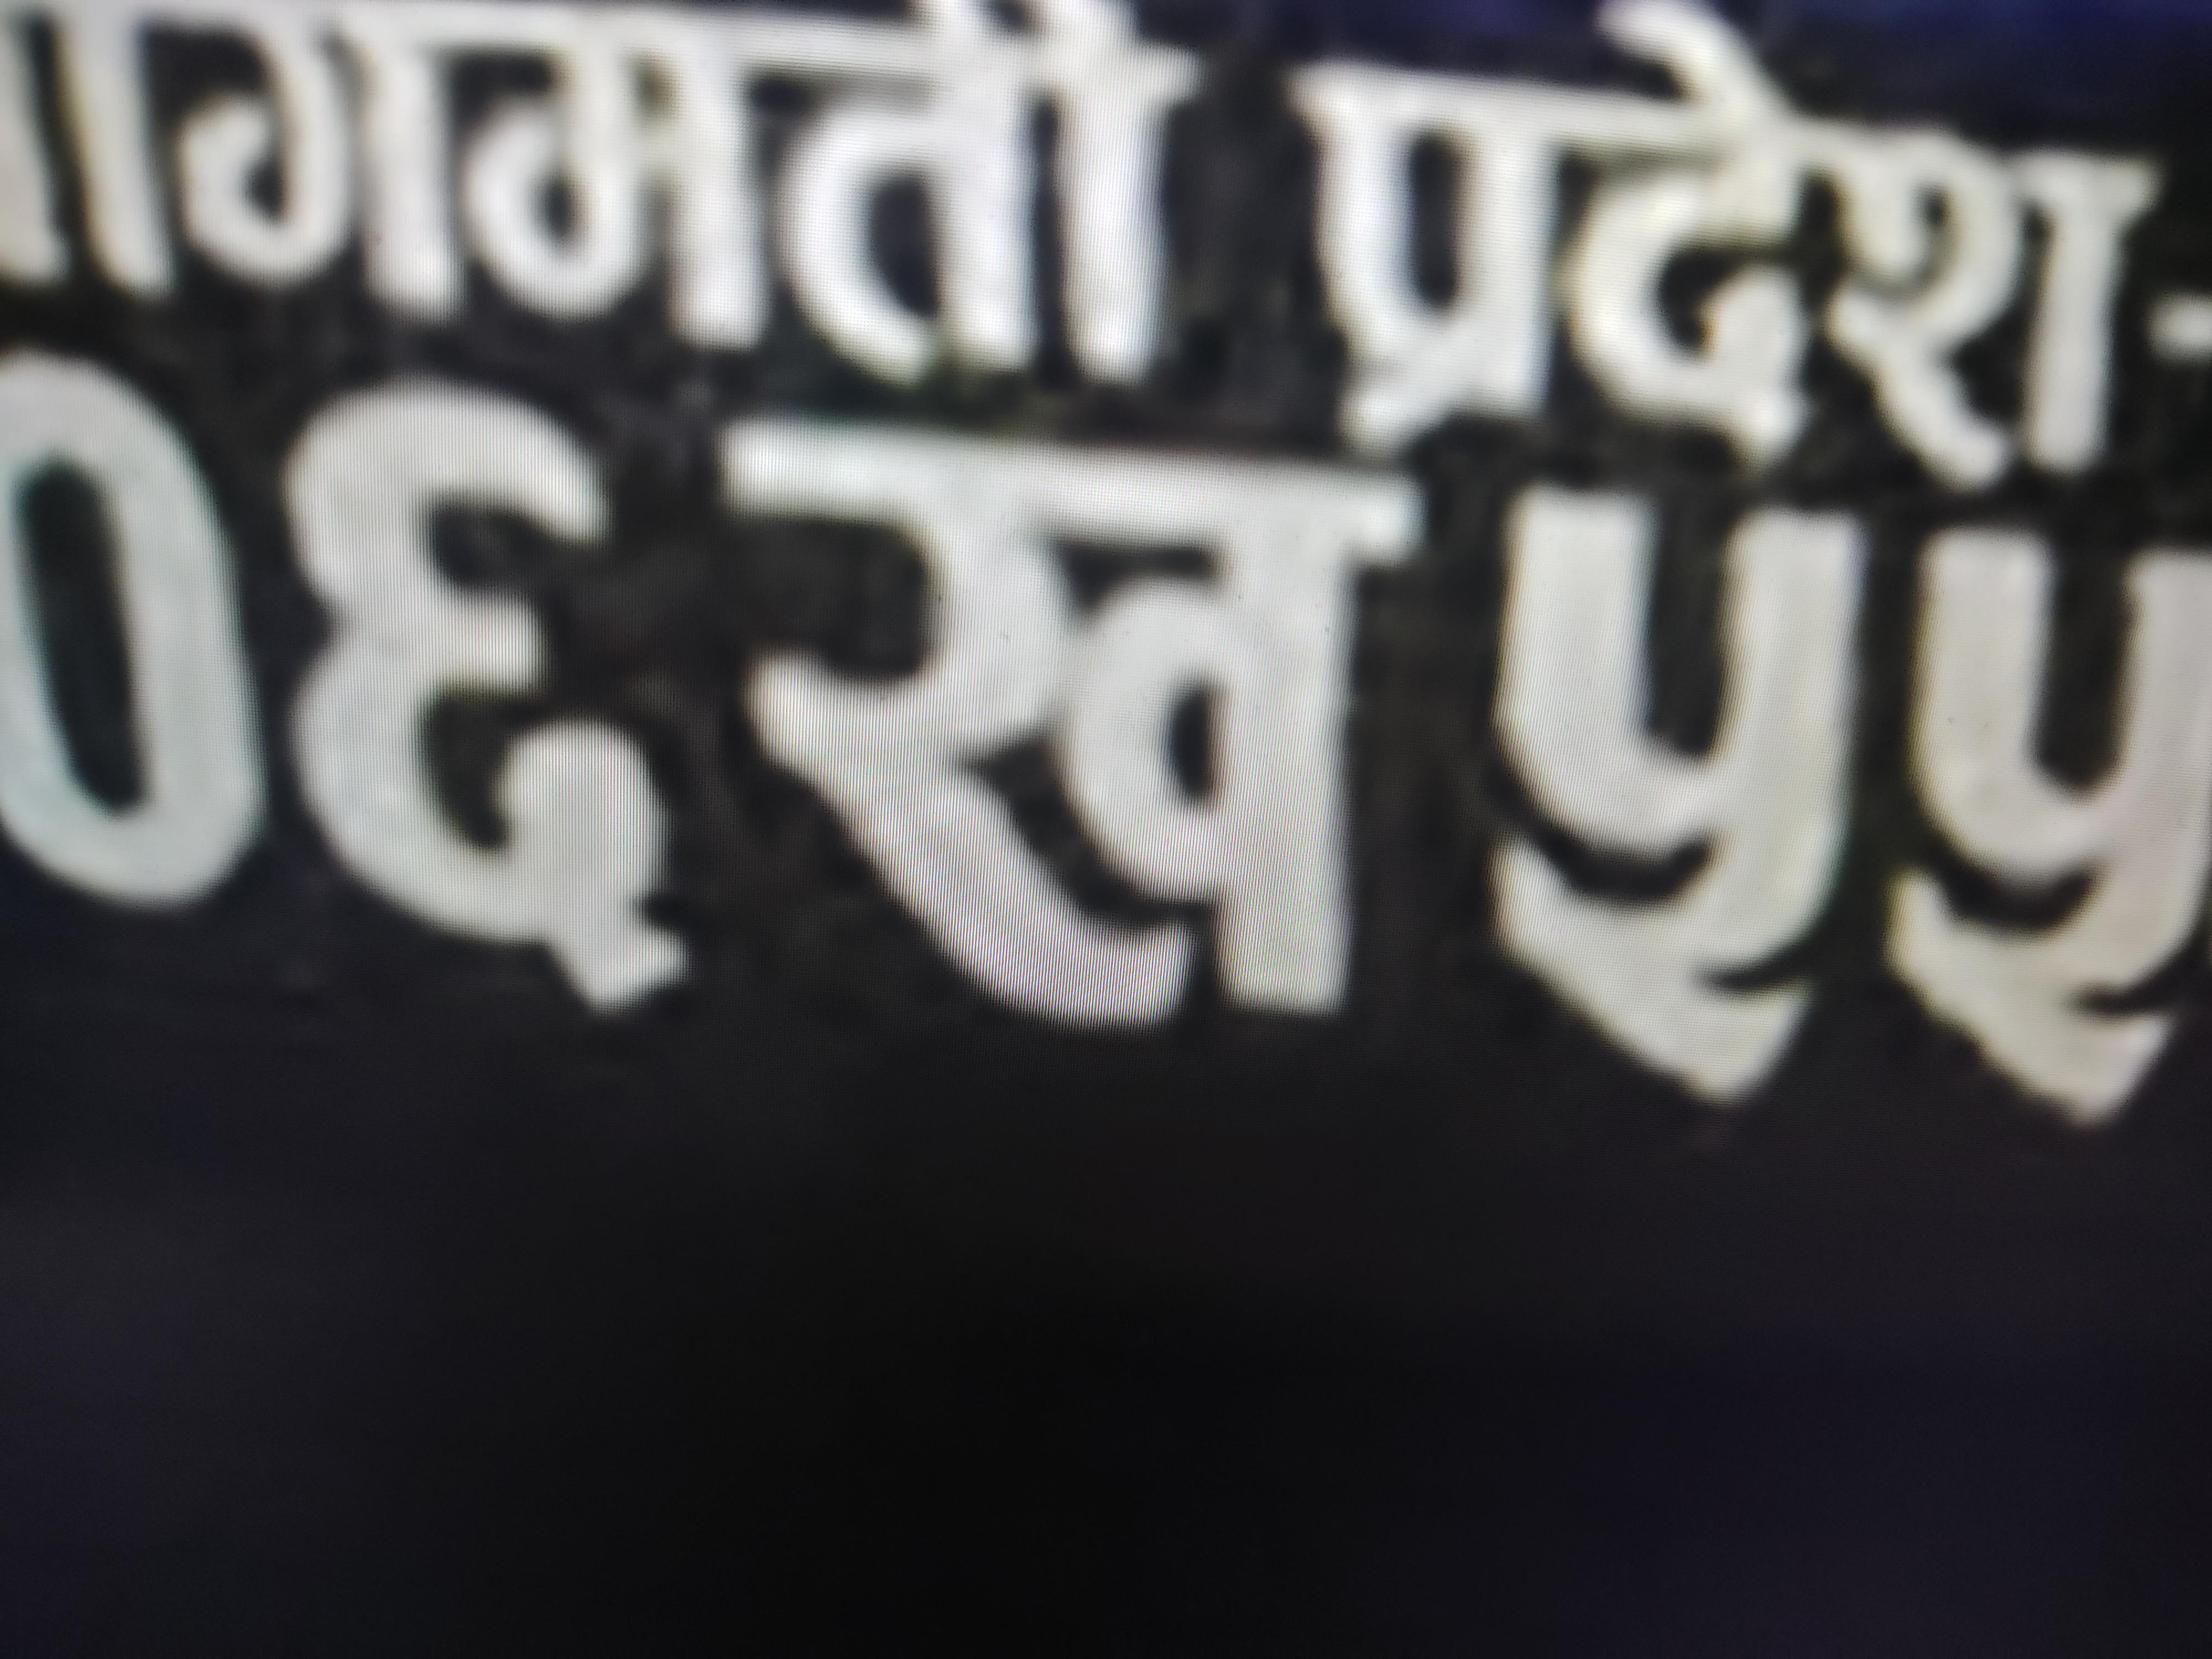0: (0, 324, 284, 960)
5: (1449, 465, 1870, 1121), (1878, 509, 2212, 1145)
6: (269, 324, 690, 1085)
kha: (706, 413, 1422, 1095)
pradesh: (1242, 0, 2212, 508)
